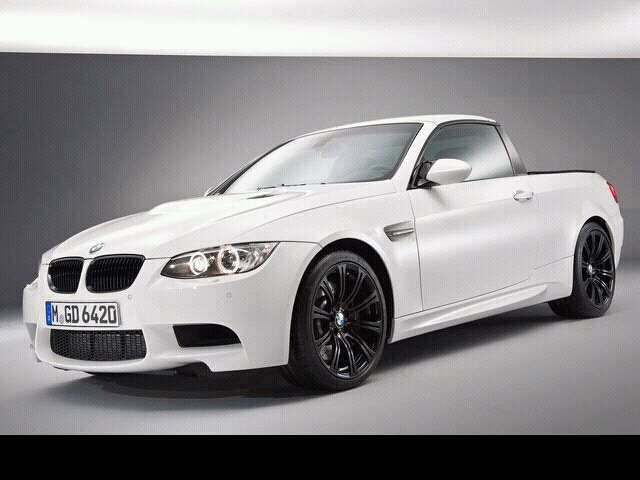car: (21, 103, 635, 392)
